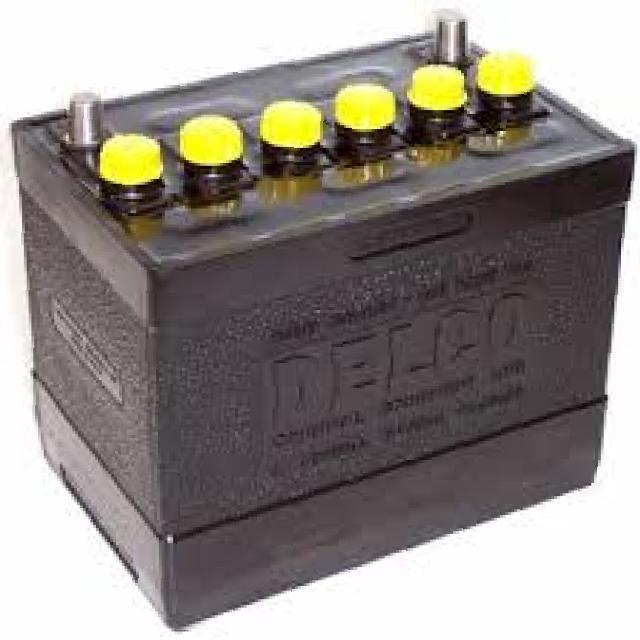Battery: (8, 0, 640, 635)
